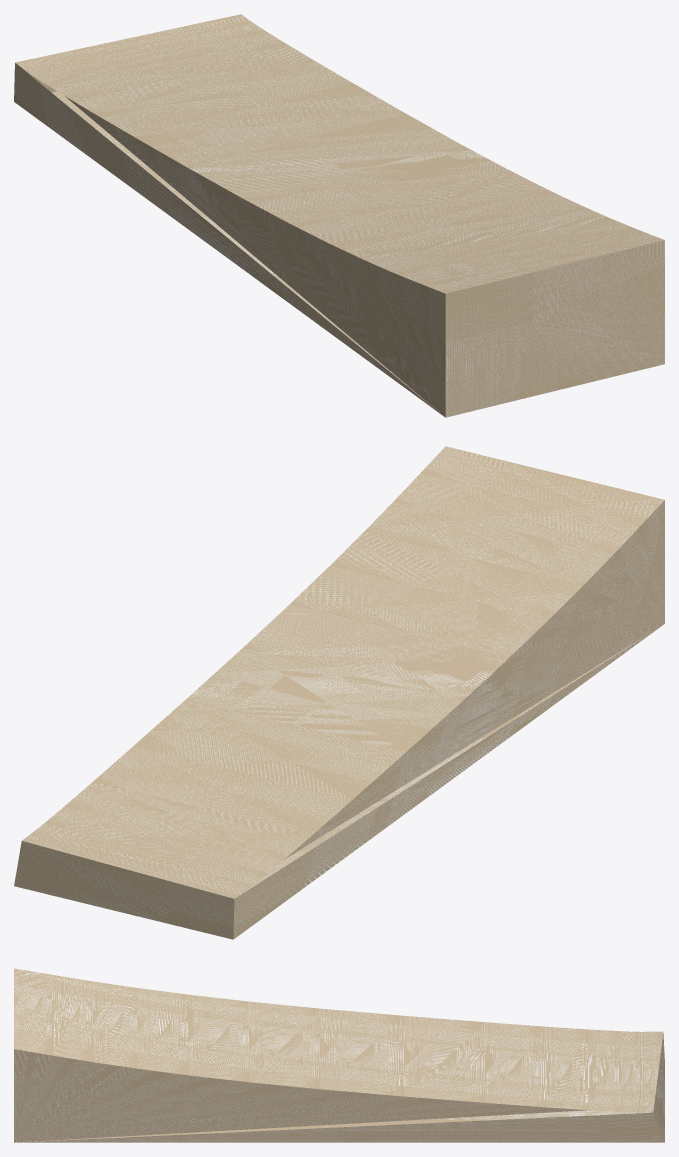
The model's file is original-21.obj.
3 renders of one model, top to bottom at view 1: azimuth 30°, elevation 25°; view 2: azimuth 150°, elevation 25°; view 3: azimuth 270°, elevation 25°, orthographic. The views are drawn at different scales.
Visible parts, largest first — view 1: mesh21/mesh21-geometry#mesh21-geometry; view 2: mesh21/mesh21-geometry#mesh21-geometry; view 3: mesh21/mesh21-geometry#mesh21-geometry.
Part boxes in pixels (x1=…): mesh21/mesh21-geometry#mesh21-geometry: x1=14, y1=14, x2=664, y2=417; mesh21/mesh21-geometry#mesh21-geometry: x1=14, y1=446, x2=664, y2=939; mesh21/mesh21-geometry#mesh21-geometry: x1=14, y1=968, x2=664, y2=1142.
Size of the model in its own units: 0.0151 by 0.00817 by 0.0515.
